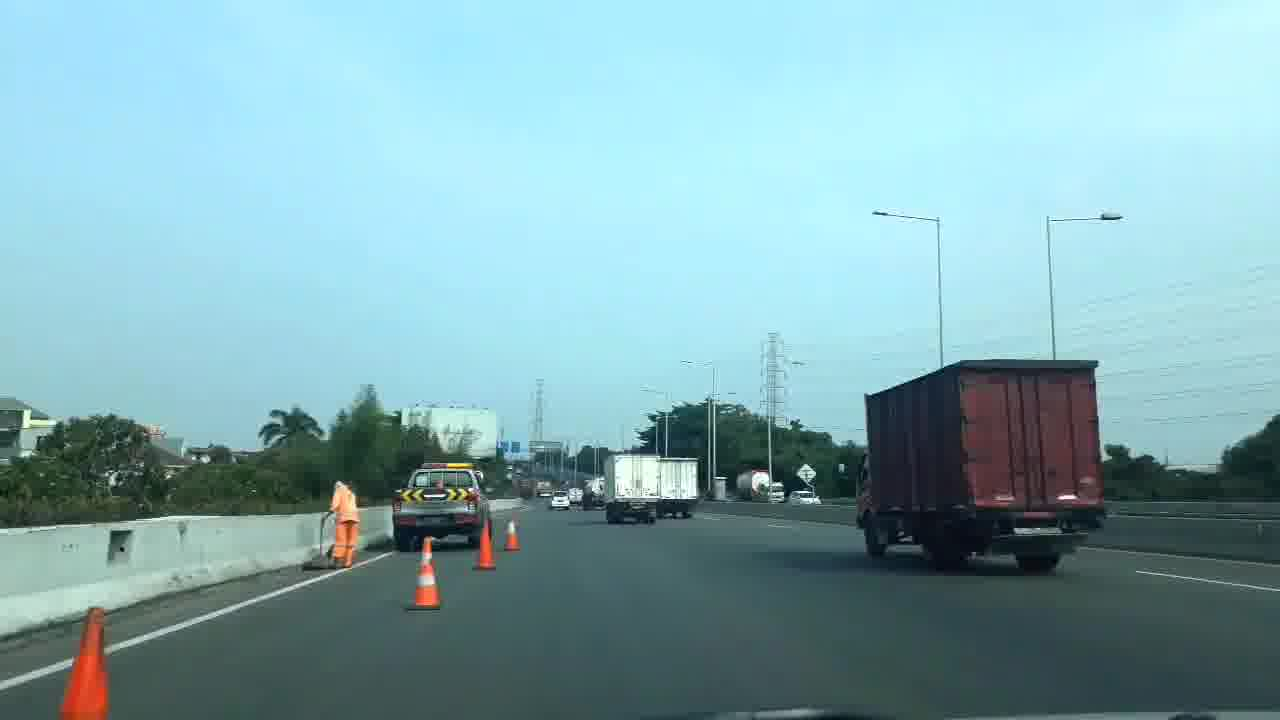plate_positive: (1012, 521, 1063, 534)
